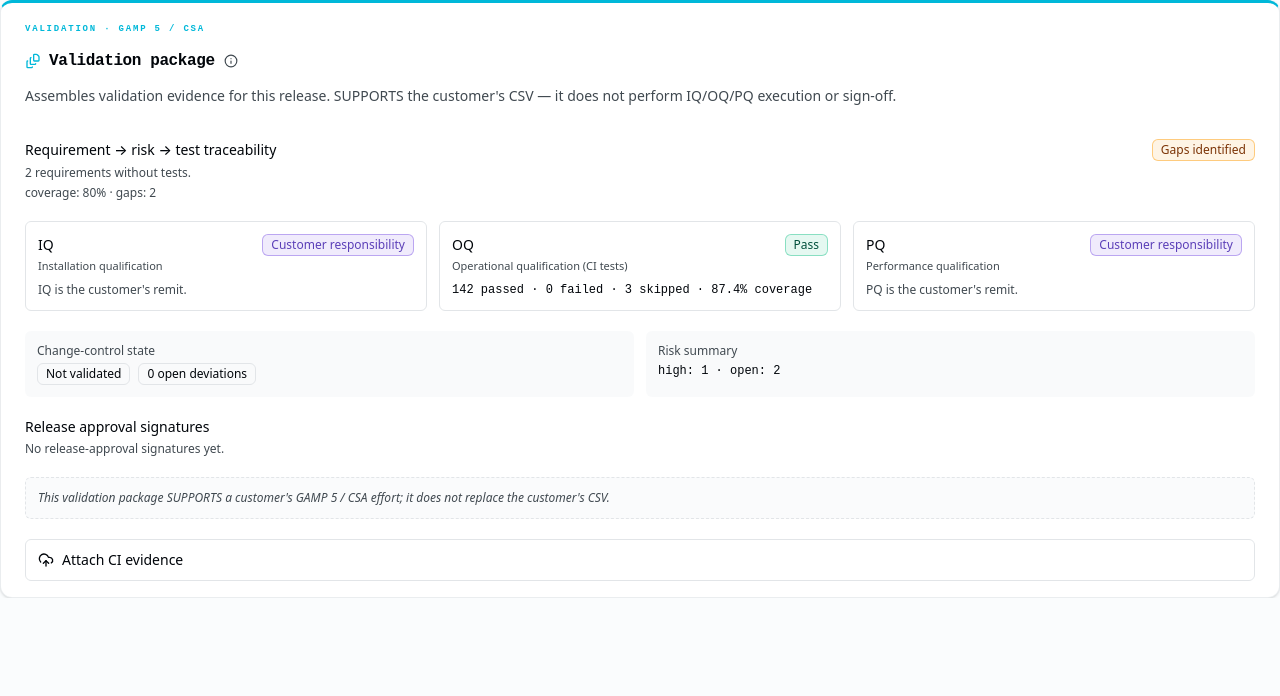
Scenario: ValidationPackagePanel › ingests CI evidence and surfaces a 409 when the release is already approved
The image size is (1280, 696).
Step 1. Click the button "Attach CI evidence" → (123, 559), box [26, 540, 1254, 580]
(page scrolled)
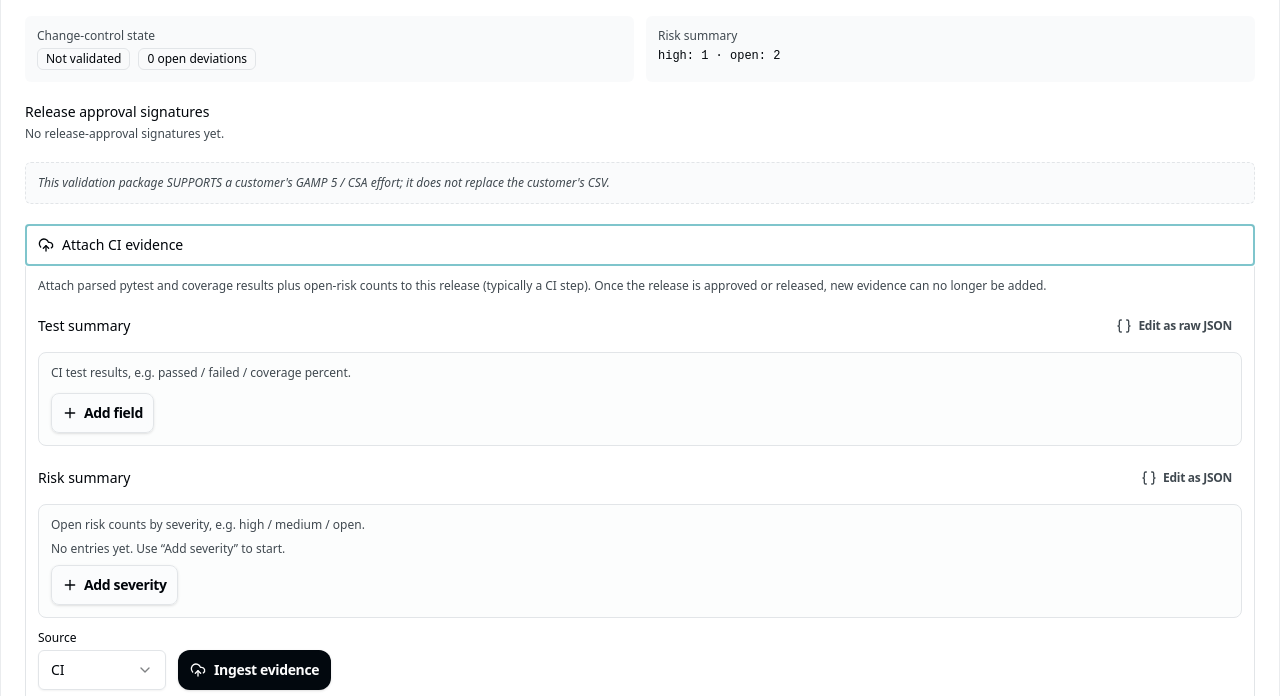
// The test summary is now a structured editor: add one field instead of typing raw JSON.
Step 2. Click the button "Add field" → (102, 413), box [51, 393, 154, 433]
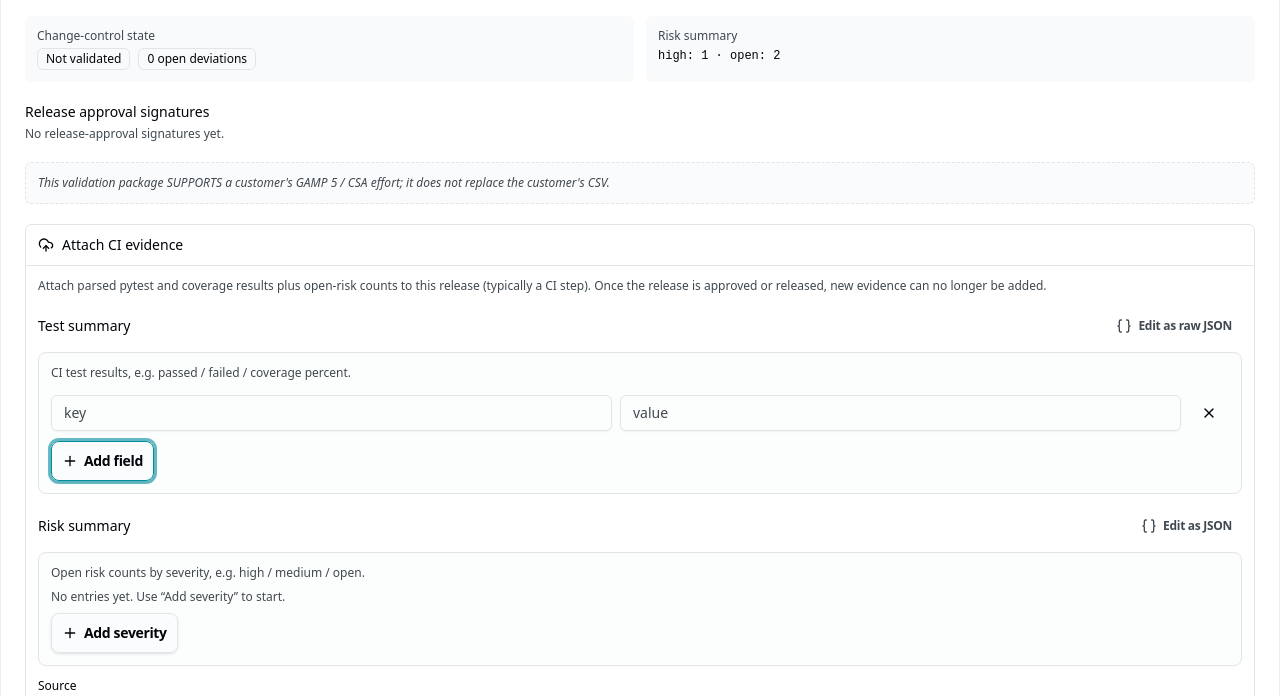
Step 3. Type "passed" into the field with placeholder "key" → (332, 413), box [51, 395, 612, 431]
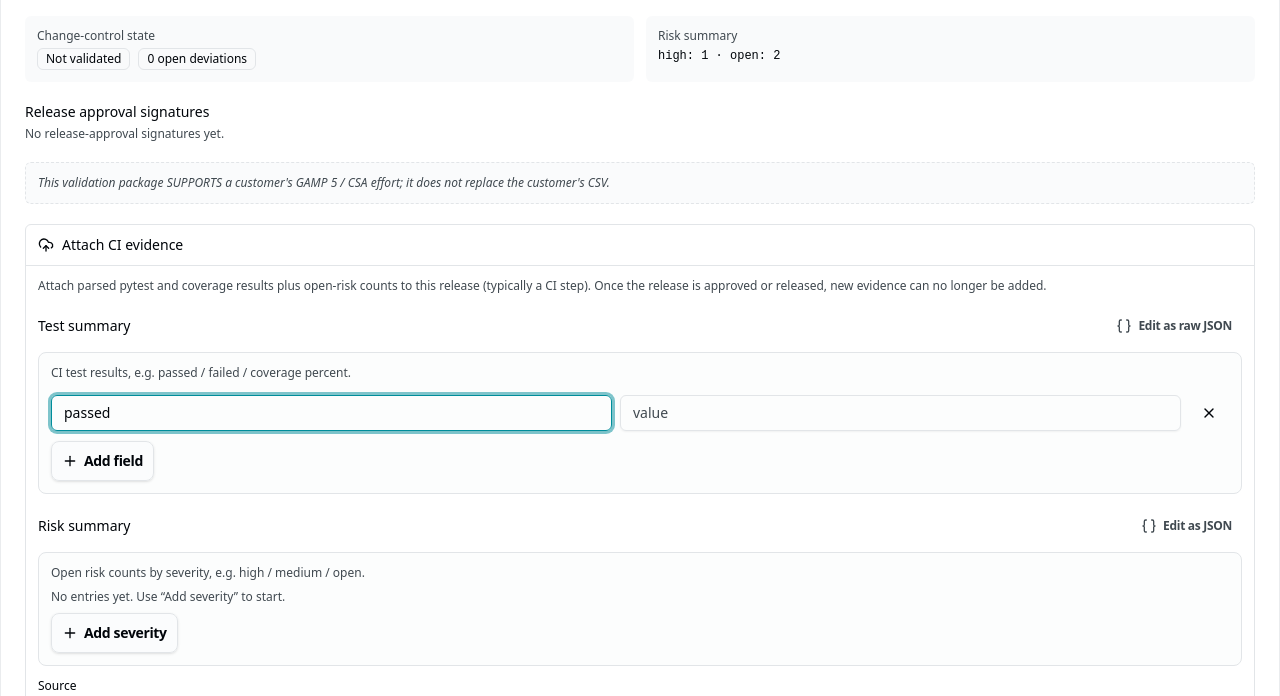
Step 4. Type "1" into the field with placeholder "value" → (900, 413), box [620, 395, 1181, 431]
(page scrolled)
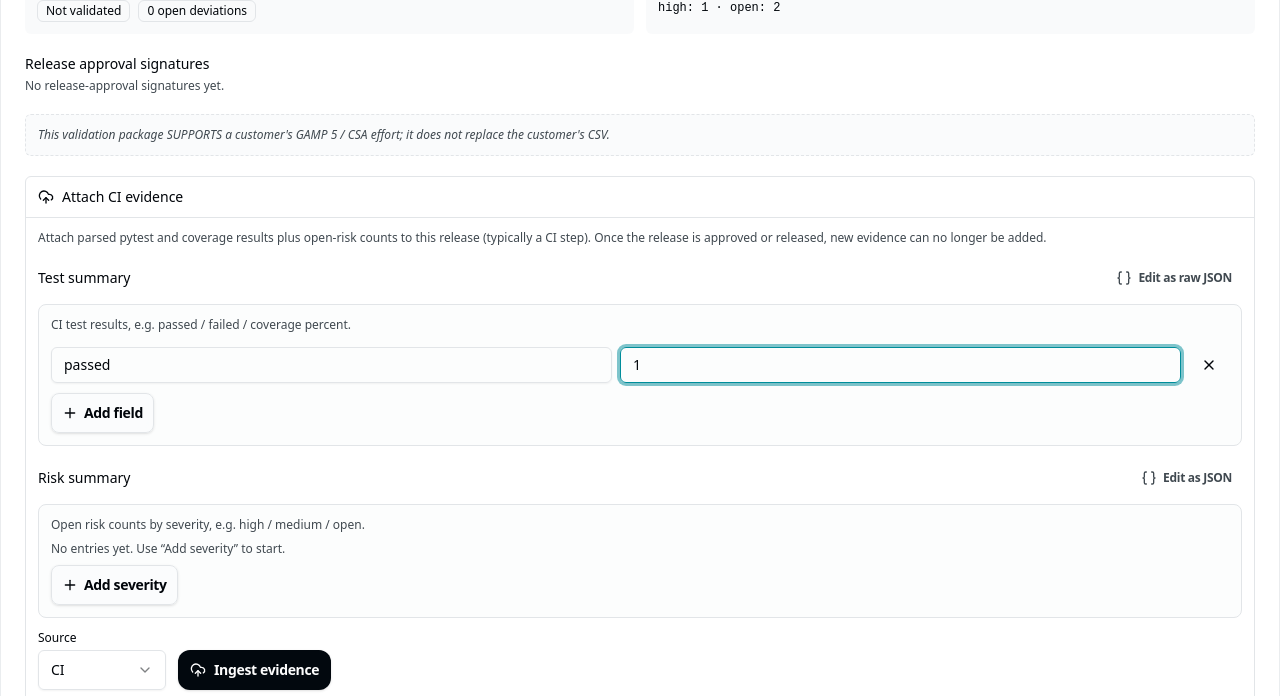
Step 5. Click the button "Ingest evidence" → (255, 670), box [178, 650, 331, 690]
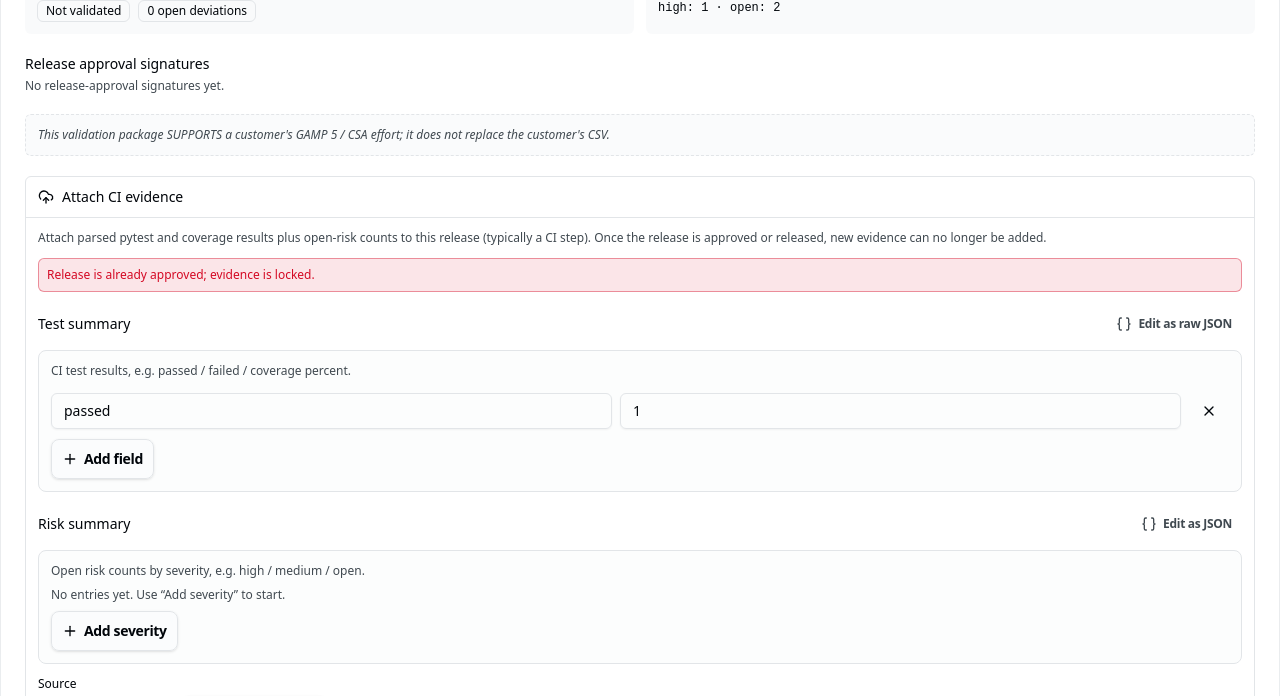
expect the text "Release is already approved; evidence is locked." is shown: met, box [38, 258, 1242, 292]
